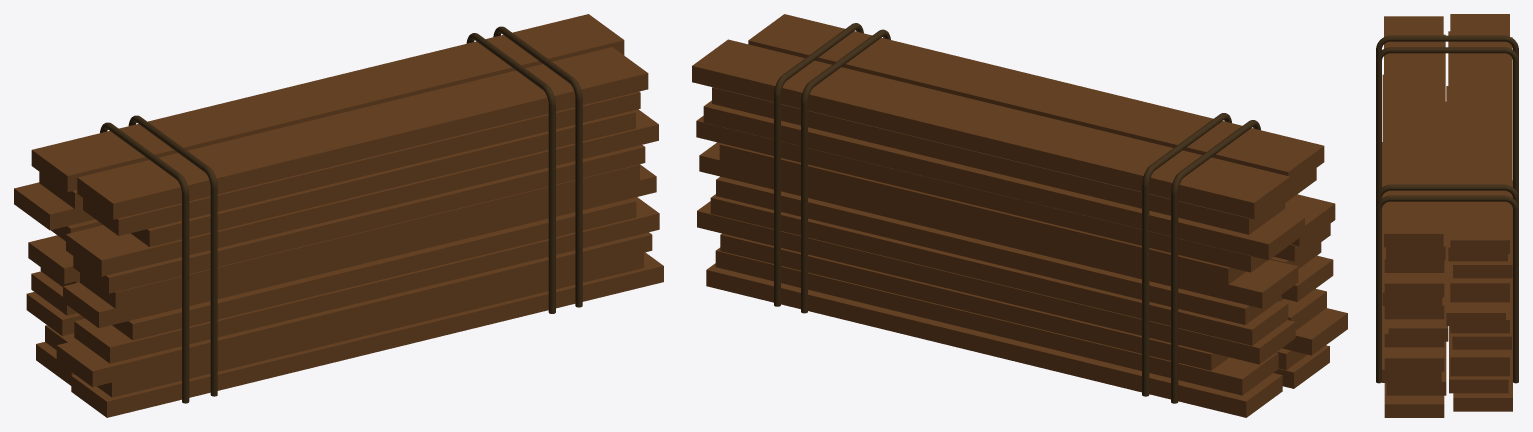
File: Bretterstabel.fbx
3 views of the same model, side by side, from view 1: azimuth 30°, elevation 25°; view 2: azimuth 150°, elevation 25°; view 3: azimuth 270°, elevation 25° (orthographic). The views are drawn at different scales.
Visible parts, largest first — view 1: Bretter, Seil; view 2: Bretter, Seil; view 3: Bretter, Seil.
Part boxes in pixels (x1,y1,x2,y2): Bretter: [14, 14, 663, 417]; Seil: [100, 26, 582, 403]; Bretter: [692, 14, 1347, 417]; Seil: [774, 23, 1260, 403]; Bretter: [1382, 14, 1512, 417]; Seil: [1376, 35, 1518, 383].
Size of the model in its own units: 3700 by 1379 by 959.
